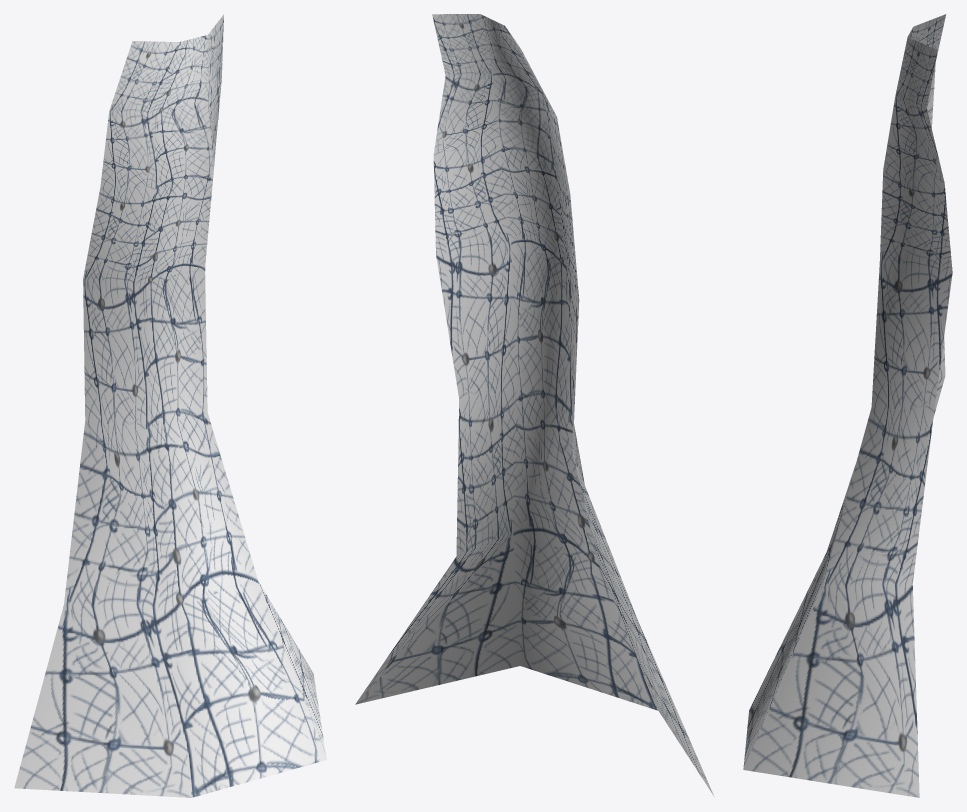
The model's file is M_Fishnet.fbx.
3 renders of one model, left to right at view 1: azimuth 30°, elevation 25°; view 2: azimuth 150°, elevation 25°; view 3: azimuth 270°, elevation 25°, orthographic. The views are drawn at different scales.
Visible parts, largest first — view 1: M_Fishnet; view 2: M_Fishnet; view 3: M_Fishnet.
Boxes of the visible parts, bbox=[...] form: M_Fishnet: bbox=[14, 14, 326, 797]; M_Fishnet: bbox=[355, 14, 714, 796]; M_Fishnet: bbox=[743, 14, 952, 797].
Bounding box in the file's own units: 2.51 × 5.25 × 1.36.
